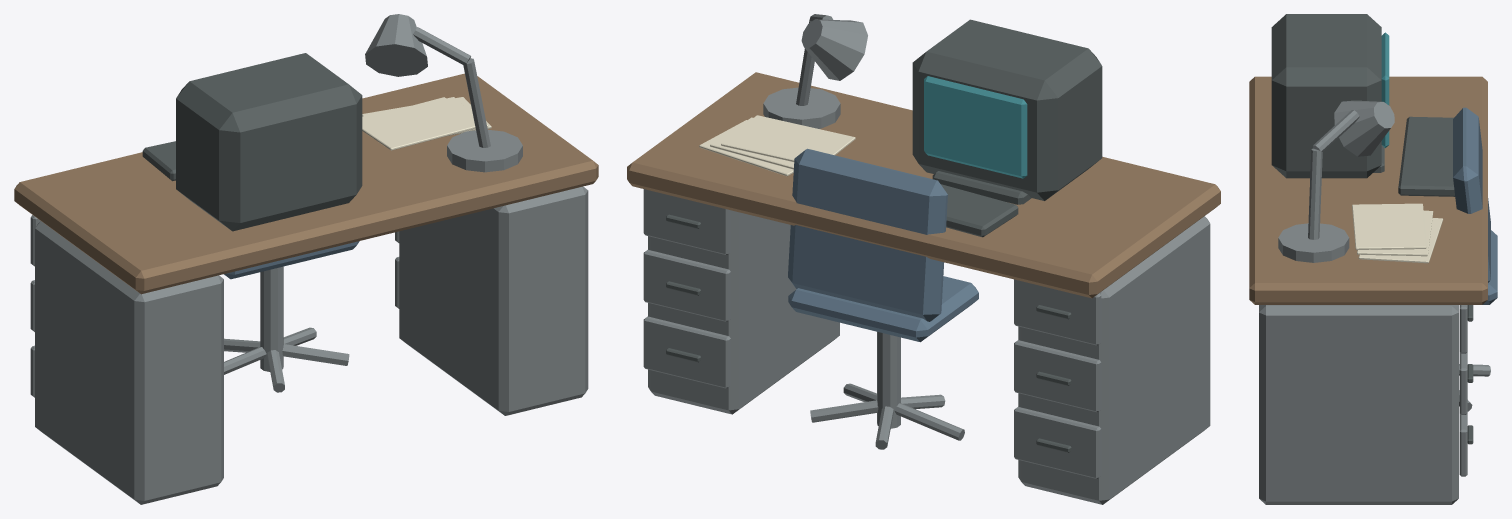
The model's file is police_desk.glb.
3 views of the same model, side by side, from view 1: azimuth 30°, elevation 25°; view 2: azimuth 150°, elevation 25°; view 3: azimuth 270°, elevation 25° (orthographic). The views are drawn at different scales.
Visible parts, largest first — view 1: police_desk; view 2: police_desk; view 3: police_desk.
Boxes of the visible parts, x1,y1,x2,y2 form: police_desk: (14,14,598,504); police_desk: (627,14,1220,504); police_desk: (1249,14,1497,504).
Size of the model in its own units: 1.55 by 1.18 by 0.77.
